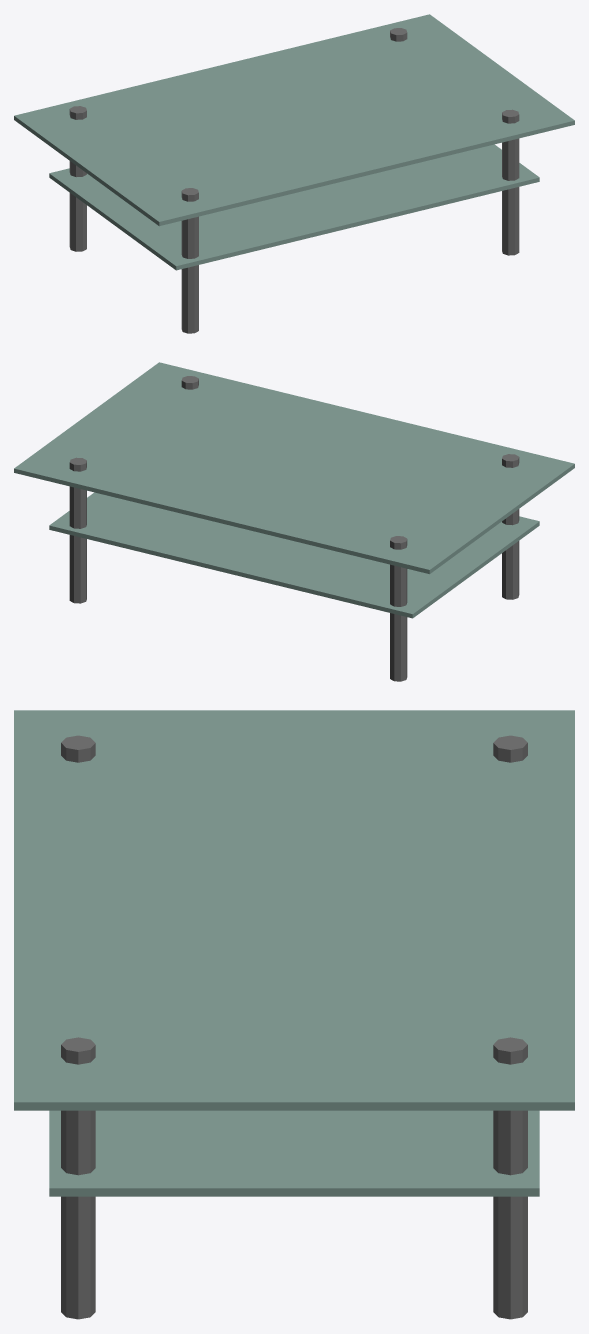
Rendered from CoffeeTable_02.fbx.
The picture shows the model from 3 angles, top to bottom: view 1: azimuth 30°, elevation 25°; view 2: azimuth 150°, elevation 25°; view 3: azimuth 270°, elevation 25°; orthographic projection. The views are drawn at different scales.
Visible parts, largest first — view 1: SM_Prop_CoffeTable_Glass_01, SM_Prop_CoffeTable_01; view 2: SM_Prop_CoffeTable_Glass_01, SM_Prop_CoffeTable_01; view 3: SM_Prop_CoffeTable_Glass_01, SM_Prop_CoffeTable_01.
Boxes of the visible parts, x1,y1,x2,y2 form: SM_Prop_CoffeTable_Glass_01: (14,14,574,270); SM_Prop_CoffeTable_01: (69,28,519,333); SM_Prop_CoffeTable_Glass_01: (14,362,574,618); SM_Prop_CoffeTable_01: (69,376,519,681); SM_Prop_CoffeTable_Glass_01: (14,710,574,1196); SM_Prop_CoffeTable_01: (61,735,527,1319).
Size of the model in its own units: 1.46 by 0.4654 by 0.8846.
